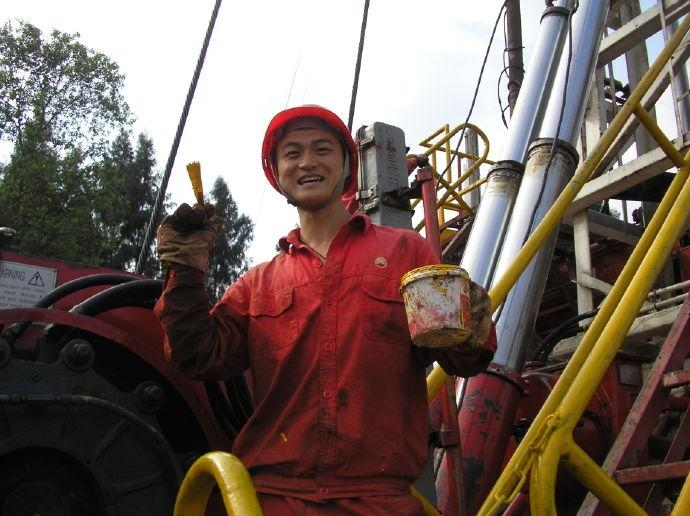helmet: (245, 98, 367, 145)
wear: (241, 238, 424, 486)
